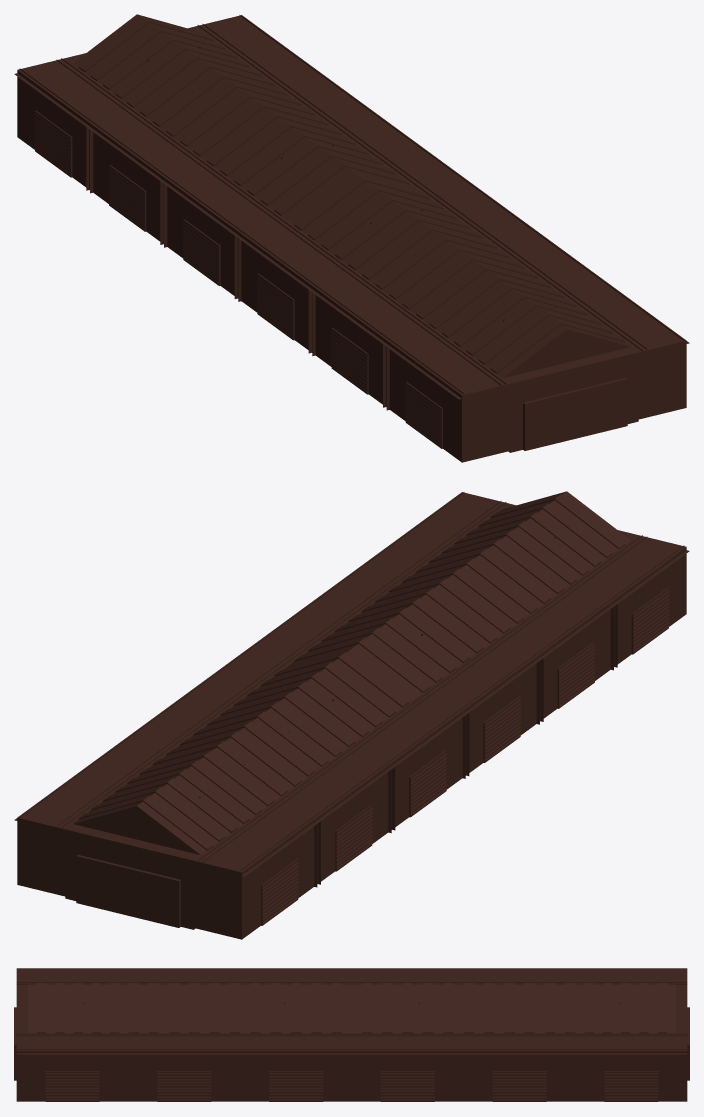
The model's file is Hangar.fbx.
The picture shows the model from 3 angles, top to bottom: view 1: azimuth 30°, elevation 25°; view 2: azimuth 150°, elevation 25°; view 3: azimuth 270°, elevation 25°; orthographic projection. The views are drawn at different scales.
Parts seen in each view (by area): view 1: 격납고; view 2: 격납고; view 3: 격납고.
Boxes of the visible parts, x1=… form: 격납고: x1=14, y1=14, x2=689, y2=462; 격납고: x1=14, y1=491, x2=689, y2=939; 격납고: x1=14, y1=968, x2=689, y2=1101.
Size of the model in its own units: 36 by 15.5 by 121.
